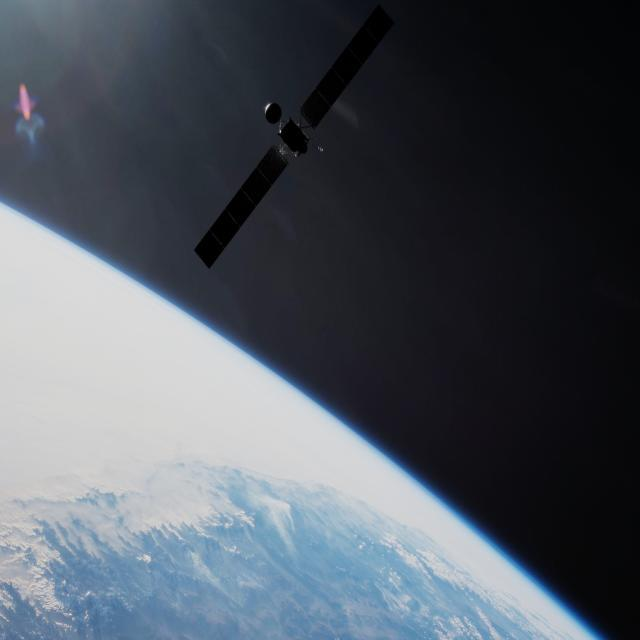medium_debris: (190, 2, 406, 270)
